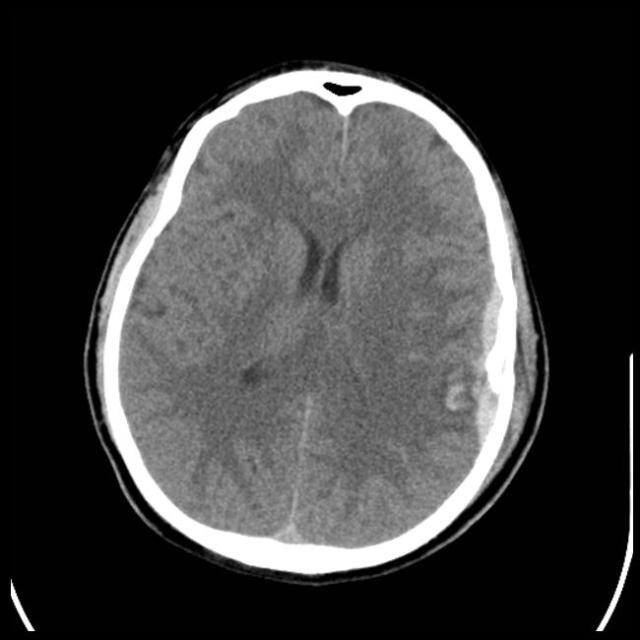lesion: (86, 61, 548, 578)
